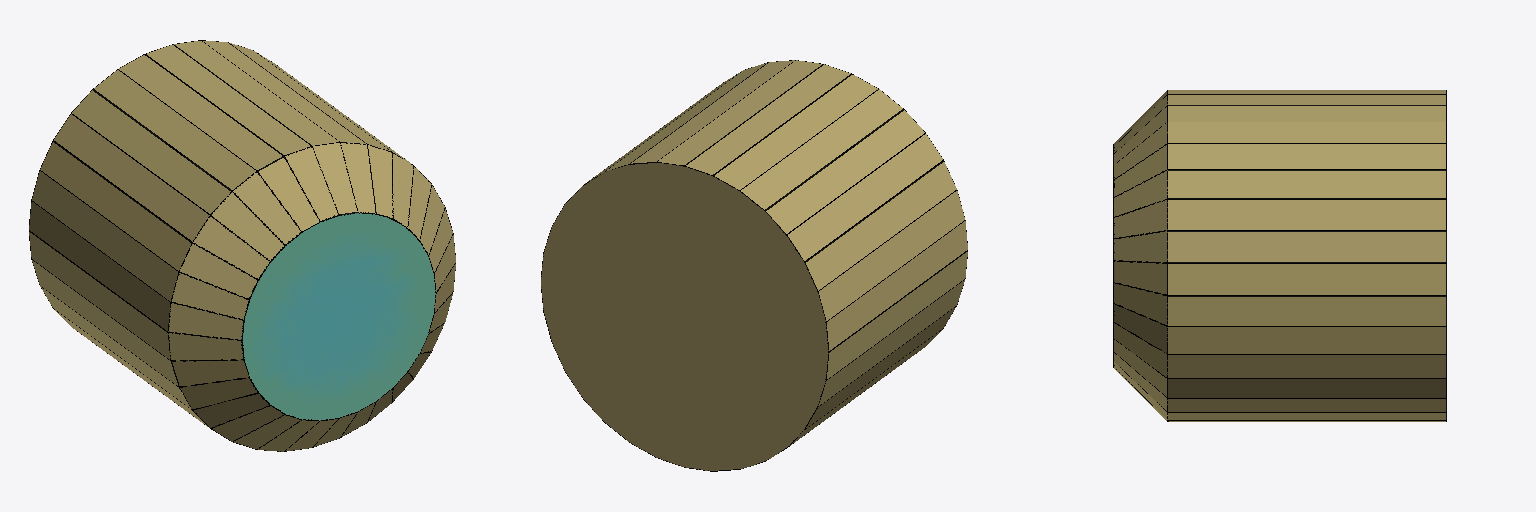
3 views of the same model, side by side, from view 1: azimuth 30°, elevation 25°; view 2: azimuth 150°, elevation 25°; view 3: azimuth 270°, elevation 25° (orthographic).
Parts seen in each view (by area): view 1: search_light_Cylinder.002; view 2: search_light_Cylinder.002; view 3: search_light_Cylinder.002.
Boxes of the visible parts, box(x1,y1,x2,y2) form: search_light_Cylinder.002: box(29, 40, 455, 451); search_light_Cylinder.002: box(541, 60, 967, 471); search_light_Cylinder.002: box(1113, 90, 1446, 421).
Size of the model in its own units: 0.2 by 0.2 by 0.2.
1 materials, 1 textured.